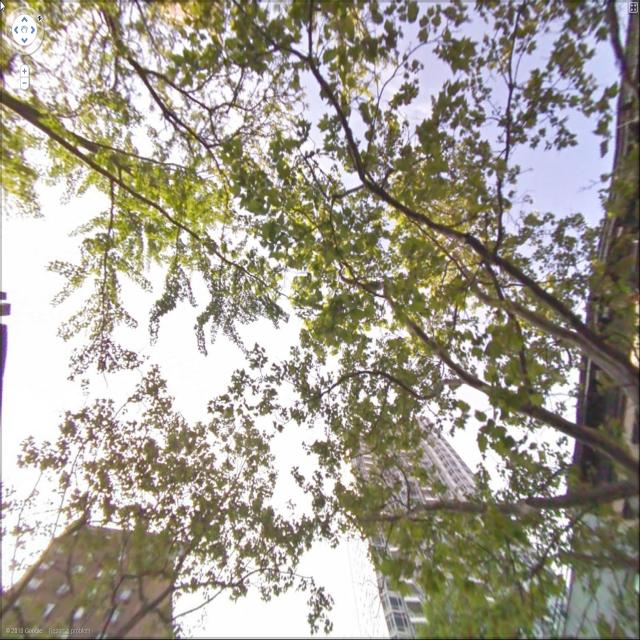b_2: (533, 12, 640, 624), (343, 400, 558, 640), (0, 482, 194, 618)
